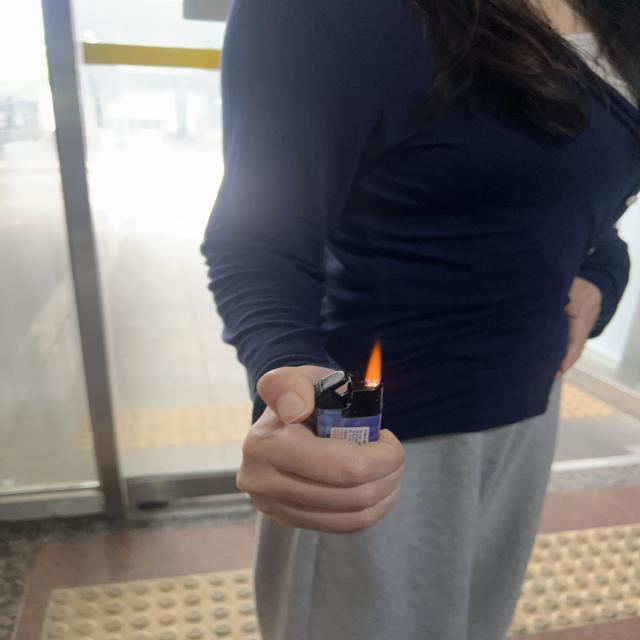fire: (363, 342, 385, 383)
